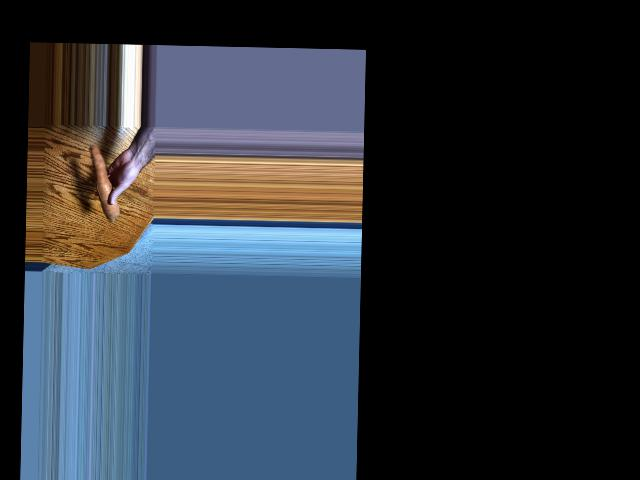sweet_potato: (94, 141, 117, 220)
